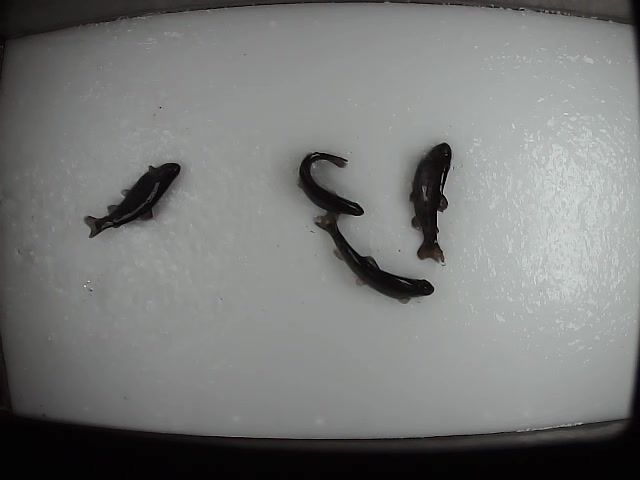Fish: (315, 214, 434, 304), (84, 162, 180, 238), (409, 142, 452, 261), (296, 152, 364, 216)
